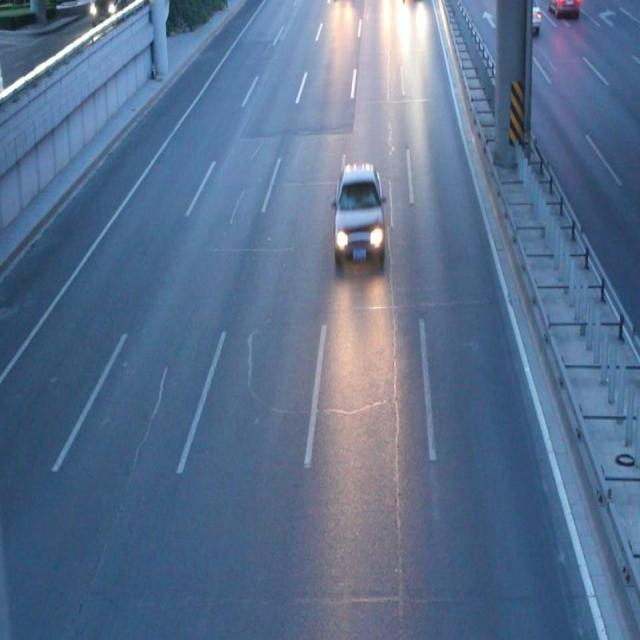car: (332, 165, 385, 268)
